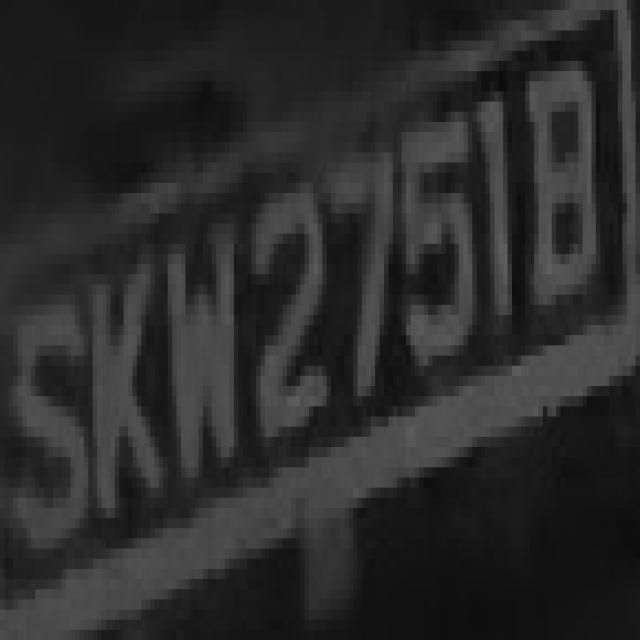1: (481, 61, 525, 366)
2: (238, 162, 340, 478)
5: (393, 91, 481, 396)
7: (309, 91, 397, 396)
B: (516, 0, 614, 356)
K: (79, 234, 159, 528)
S: (13, 284, 84, 548)
W: (142, 203, 238, 518)
